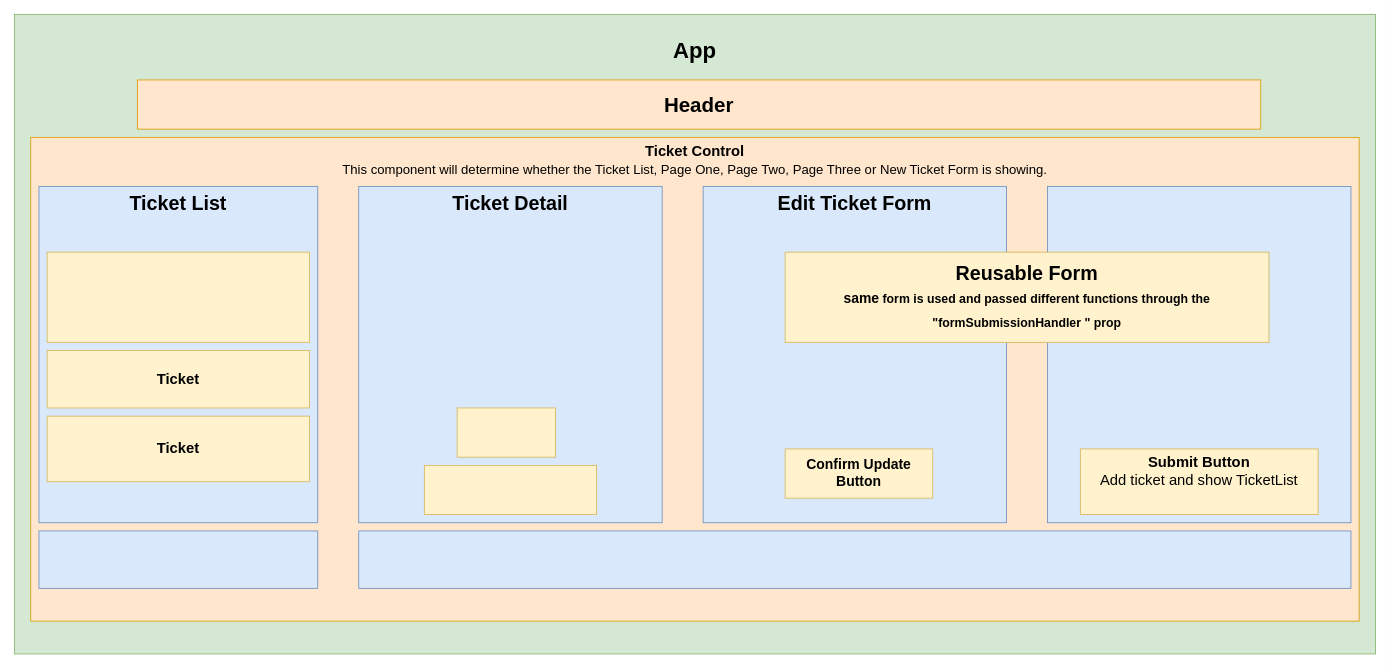
Image size: 1390x668. Some labels were removed from this diagram. The box of each missing label's shape, as (x1, y1, x2, y2) in pixels:
Add Ticket Button Takes shows page one. Lives in Ticket Control Component: (38, 530, 318, 588)
Delete Ticket Button: (456, 407, 556, 457)
New Ticket Form: (1047, 186, 1351, 523)
Ticket Clicking on a ticket will show a ticket's detail: (46, 251, 310, 342)
Ticket list Button shows ticket list: (358, 530, 1351, 588)
Update Button to Edit Form: (424, 465, 597, 515)
